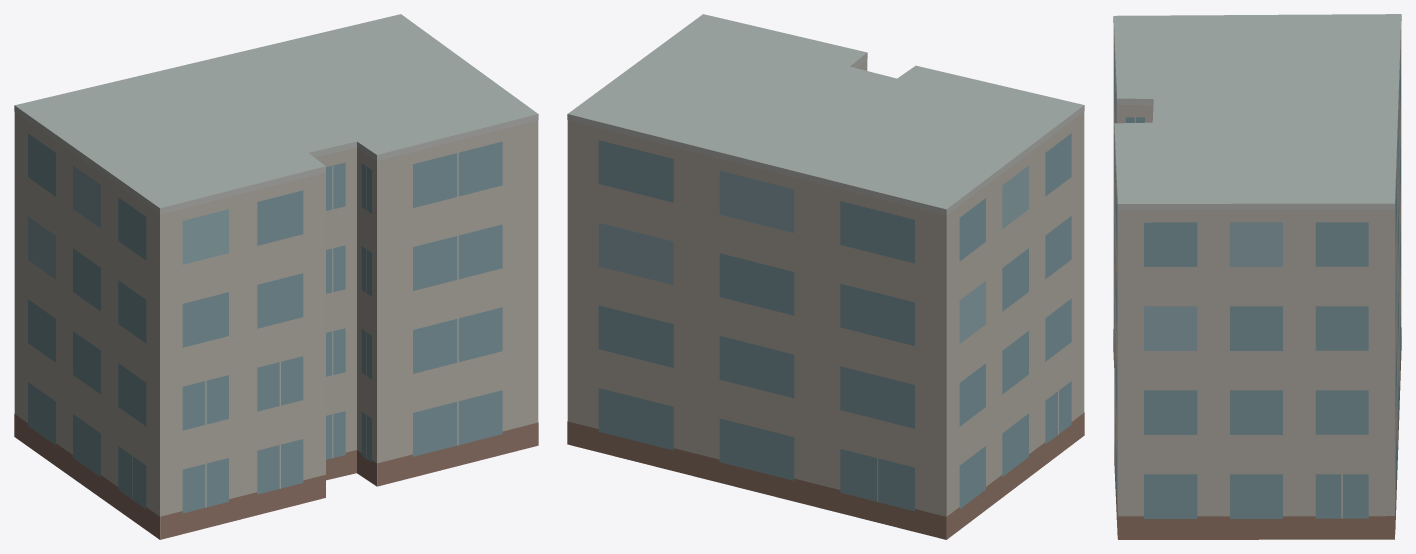
The model's file is survey-upis-32745604.glb.
3 renders of one model, left to right at view 1: azimuth 30°, elevation 25°; view 2: azimuth 150°, elevation 25°; view 3: azimuth 270°, elevation 25°, orthographic.
Parts seen in each view (by area): view 1: survey-upis-32745604.tmp; view 2: survey-upis-32745604.tmp; view 3: survey-upis-32745604.tmp.
Part boxes in pixels (bbox=[...]): survey-upis-32745604.tmp: bbox=[14, 14, 538, 539]; survey-upis-32745604.tmp: bbox=[567, 14, 1084, 539]; survey-upis-32745604.tmp: bbox=[1113, 14, 1401, 539].
Size of the model in its own units: 15.77 by 13 by 10.1.
